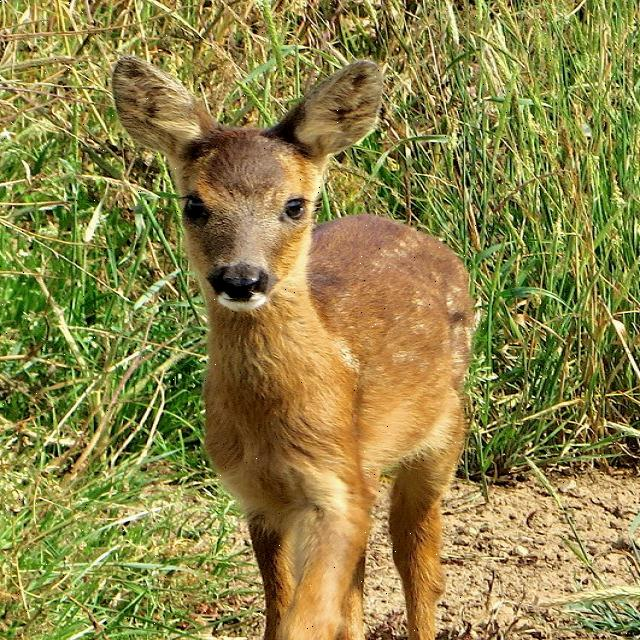deer: (97, 46, 434, 348)
